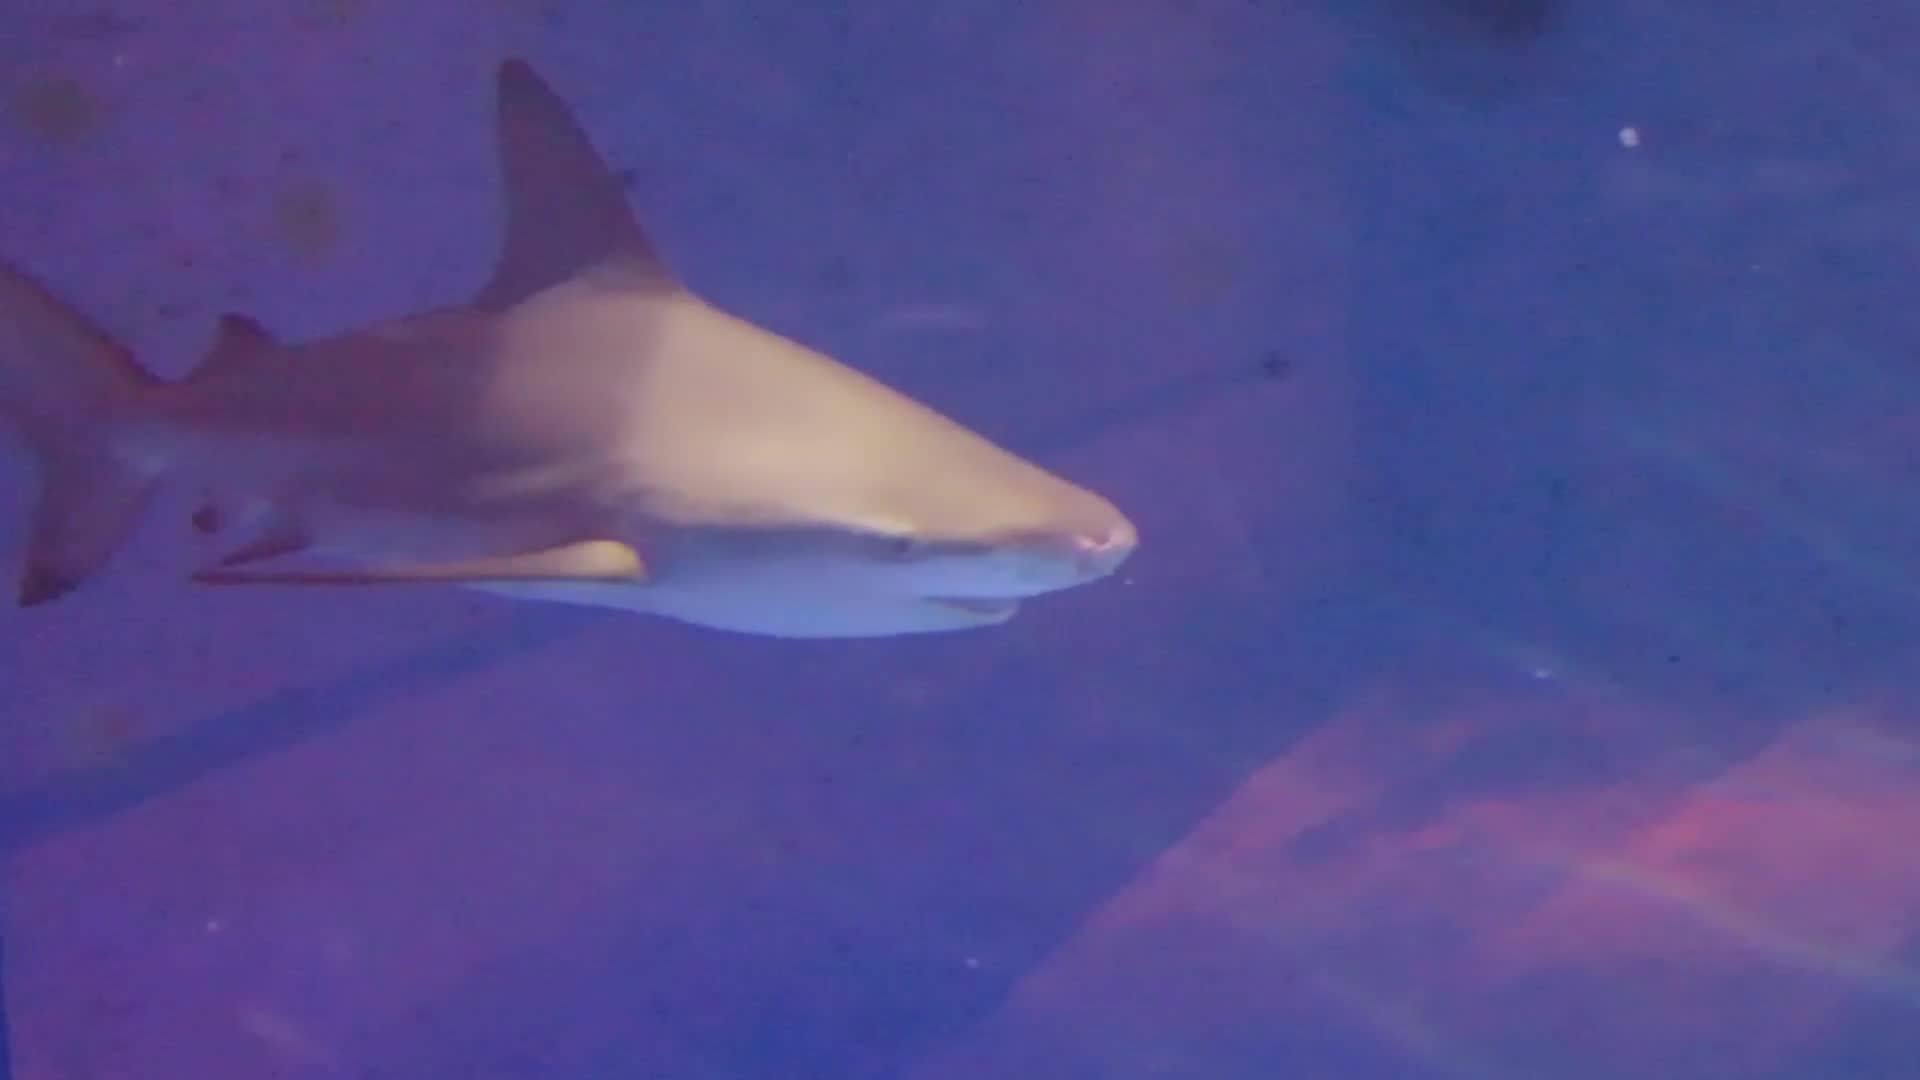Carcharhinus leucas: (1, 25, 1178, 719)
